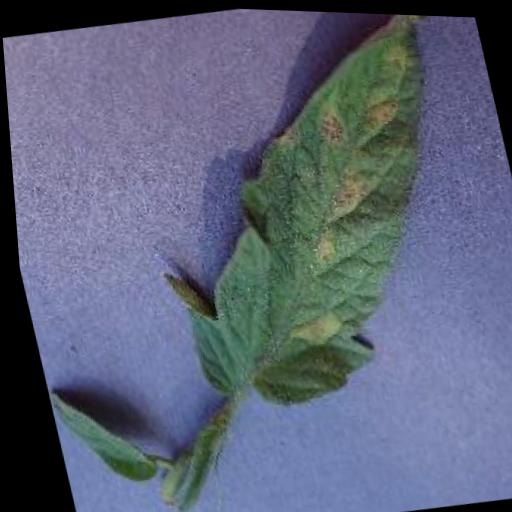Leaf Mold: (102, 3, 512, 423)
